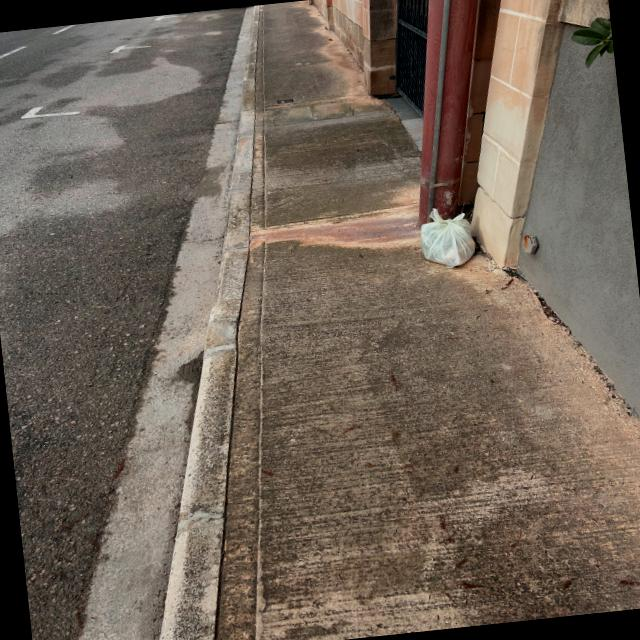white_bag: (412, 201, 483, 271)
